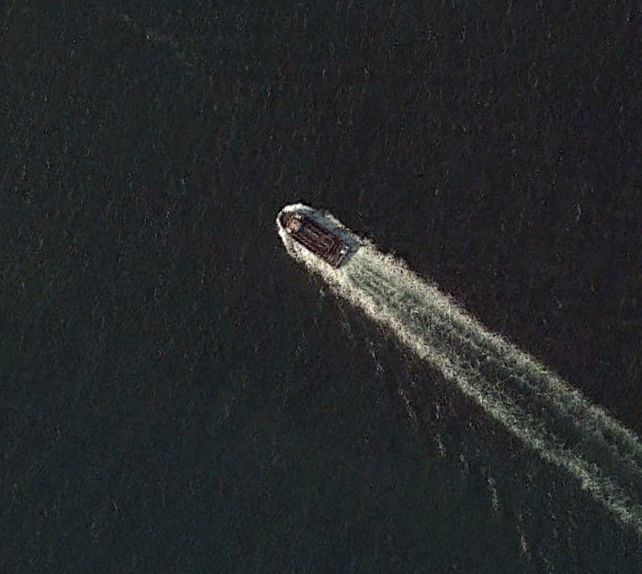boat: (275, 208, 356, 274)
